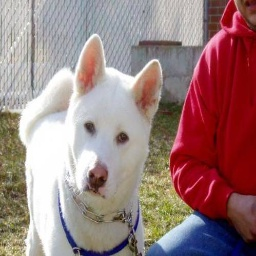dog: (21, 45, 160, 256)
